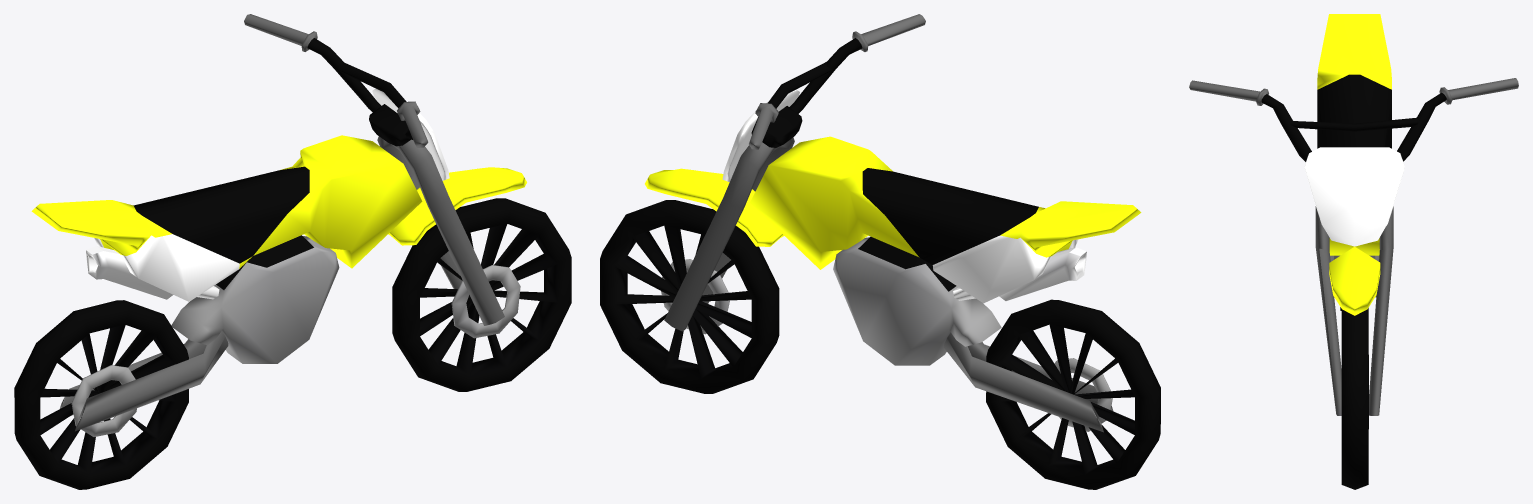
File: DirtBike250ccYellow.glb
The picture shows the model from 3 angles, left to right: view 1: azimuth 30°, elevation 25°; view 2: azimuth 150°, elevation 25°; view 3: azimuth 270°, elevation 25°; orthographic projection. The views are drawn at different scales.
Parts seen in each view (by area): view 1: DirtBike250ccYellow; view 2: DirtBike250ccYellow; view 3: DirtBike250ccYellow.
Part boxes in pixels (x1,y1,x2,y2): DirtBike250ccYellow: (14,14,571,489); DirtBike250ccYellow: (600,14,1160,489); DirtBike250ccYellow: (1189,14,1518,489).
Bounding box in the file's own units: 2.46 × 1.49 × 1.33.
Materials: 1 (1 with a texture image).
